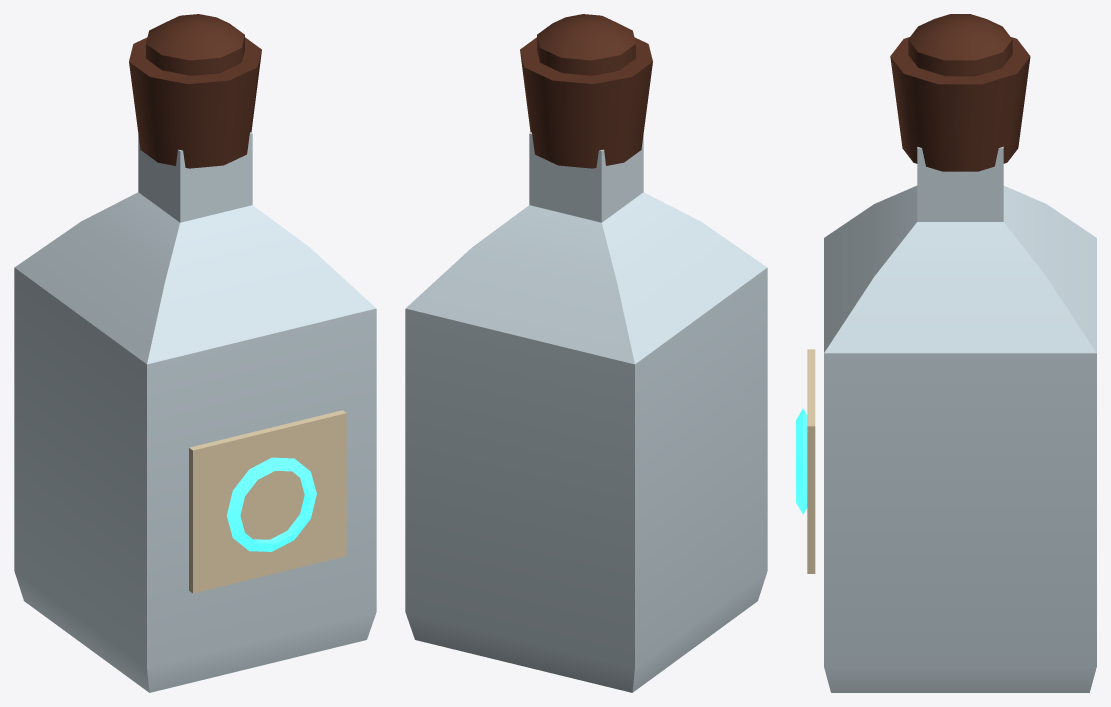
Rendered from Potion_Bottle_Square.fbx.
3 views of the same model, side by side, from view 1: azimuth 30°, elevation 25°; view 2: azimuth 150°, elevation 25°; view 3: azimuth 270°, elevation 25° (orthographic). The views are drawn at different scales.
Parts seen in each view (by area): view 1: Potion_Bottle_Square_Glass, Potion_Bottle_Square_Cap; view 2: Potion_Bottle_Square_Glass, Potion_Bottle_Square_Cap; view 3: Potion_Bottle_Square_Glass, Potion_Bottle_Square_Cap.
Part boxes in pixels (x1,y1,x2,y2): Potion_Bottle_Square_Glass: (14, 132, 376, 692); Potion_Bottle_Square_Cap: (129, 14, 346, 593); Potion_Bottle_Square_Glass: (405, 132, 767, 692); Potion_Bottle_Square_Cap: (520, 14, 652, 168); Potion_Bottle_Square_Glass: (824, 146, 1096, 692); Potion_Bottle_Square_Cap: (796, 14, 1030, 573).
Size of the model in its own units: 0.1344 by 0.3345 by 0.148.
